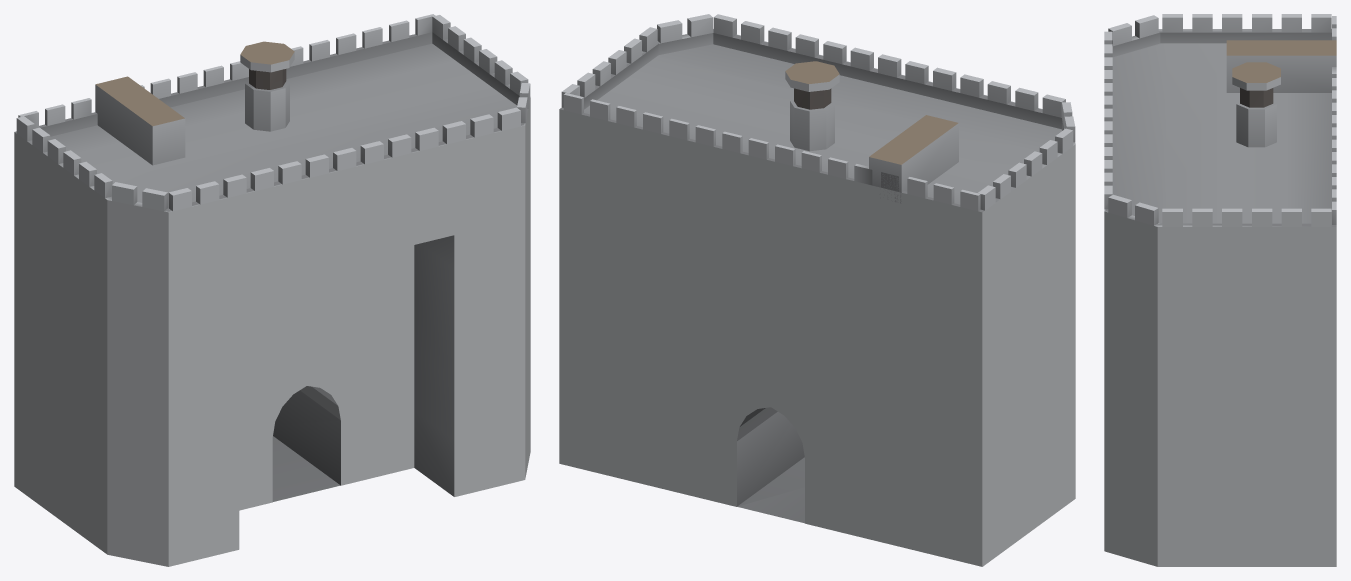
File: sg_crown_gate_l1.glb
The picture shows the model from 3 angles, left to right: view 1: azimuth 30°, elevation 25°; view 2: azimuth 150°, elevation 25°; view 3: azimuth 270°, elevation 25°; orthographic projection. The views are drawn at different scales.
Parts seen in each view (by area): view 1: sg_crown_gate_l1_SG_Far, sg_crown_gate_l1_SG_Stone, sg_crown_gate_l1_SG_Joinery, sg_crown_gate_l1_SG_Glow; view 2: sg_crown_gate_l1_SG_Far, sg_crown_gate_l1_SG_Stone, sg_crown_gate_l1_SG_Joinery, sg_crown_gate_l1_SG_Glow; view 3: sg_crown_gate_l1_SG_Far, sg_crown_gate_l1_SG_Stone, sg_crown_gate_l1_SG_Joinery, sg_crown_gate_l1_SG_Glow.
Boxes of the visible parts, x1,y1,x2,y2 form: sg_crown_gate_l1_SG_Far: (14, 98, 530, 566); sg_crown_gate_l1_SG_Stone: (15, 14, 530, 501); sg_crown_gate_l1_SG_Joinery: (95, 41, 294, 126); sg_crown_gate_l1_SG_Glow: (249, 69, 286, 89); sg_crown_gate_l1_SG_Far: (559, 109, 1075, 566); sg_crown_gate_l1_SG_Stone: (559, 14, 1075, 523); sg_crown_gate_l1_SG_Joinery: (785, 61, 958, 164); sg_crown_gate_l1_SG_Glow: (794, 88, 831, 109); sg_crown_gate_l1_SG_Far: (1104, 211, 1336, 566); sg_crown_gate_l1_SG_Stone: (1104, 14, 1336, 226); sg_crown_gate_l1_SG_Joinery: (1226, 40, 1336, 82); sg_crown_gate_l1_SG_Glow: (1240, 88, 1273, 107).
Bounding box in the file's own units: 31.1 × 28.95 × 15.4.
